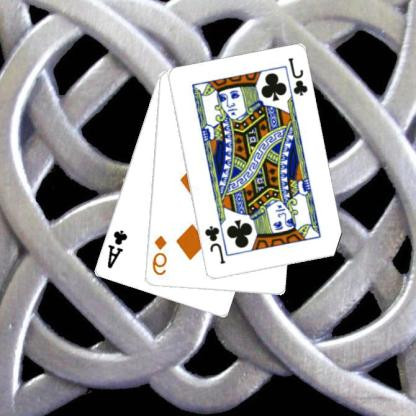6D: (151, 233, 169, 277)
AC: (106, 227, 130, 270)
JC: (203, 223, 228, 266), (286, 56, 311, 98)
